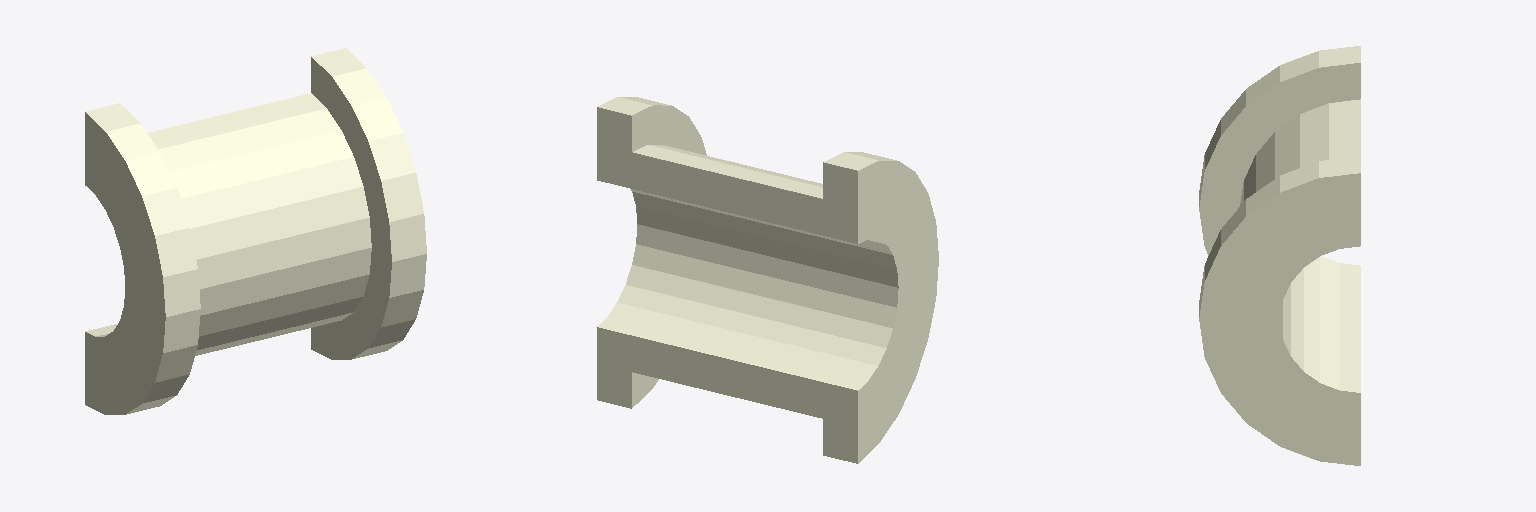
File: section_008.obj
3 renders of one model, left to right at view 1: azimuth 30°, elevation 25°; view 2: azimuth 150°, elevation 25°; view 3: azimuth 270°, elevation 25°, orthographic.
Bounding box in the file's own units: 7.46 × 8 × 4.